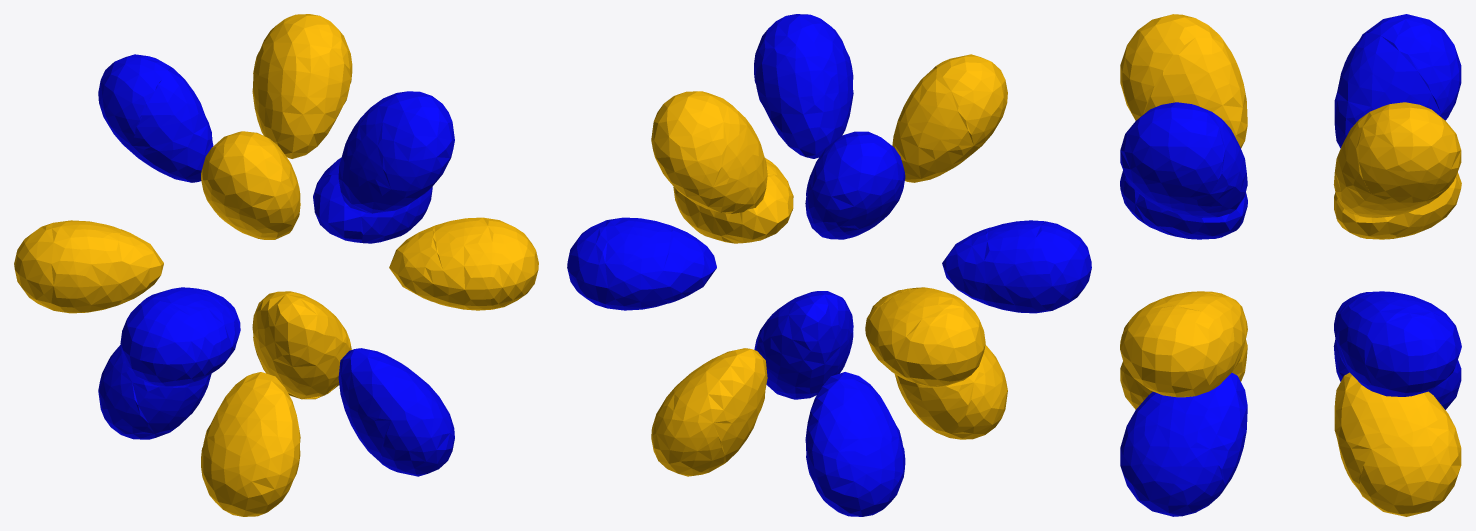
3 views of the same model, side by side, from view 1: azimuth 30°, elevation 25°; view 2: azimuth 150°, elevation 25°; view 3: azimuth 270°, elevation 25° (orthographic). The views are drawn at different scales.
Bounding box in the file's own units: 28.06 × 24.94 × 19.02.
